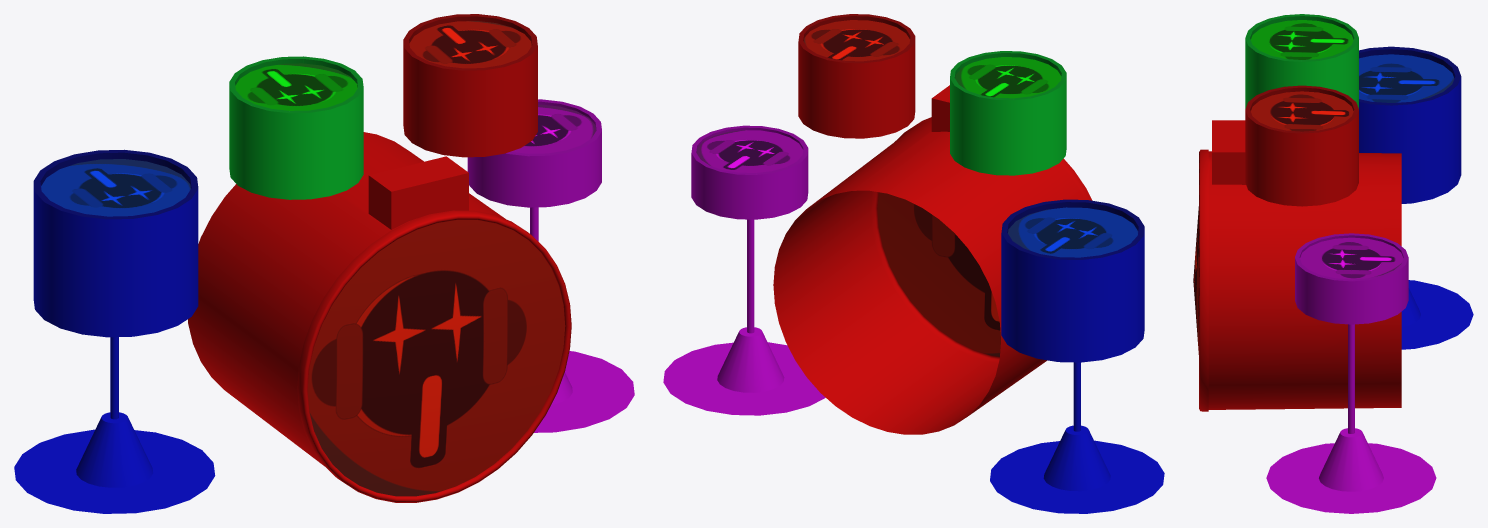
File: DrumUVtweak.fbx
The picture shows the model from 3 angles, left to right: view 1: azimuth 30°, elevation 25°; view 2: azimuth 150°, elevation 25°; view 3: azimuth 270°, elevation 25°; orthographic projection. The views are drawn at different scales.
Visible parts, largest first — view 1: polySurface3, pCylinder6, pCylinder4, pCylinder5, polySurface4, pCylinder7, polySurface6; view 2: polySurface3, pCylinder6, pCylinder5, pCylinder4, polySurface4, polySurface6, pCylinder7; view 3: polySurface3, pCylinder6, pCylinder5, polySurface6, pCylinder7, pCylinder4, polySurface4.
Boxes of the visible parts, bbox=[...] form: polySurface3: bbox=[188, 132, 571, 502]; pCylinder6: bbox=[33, 149, 198, 337]; pCylinder4: bbox=[229, 56, 363, 199]; pCylinder5: bbox=[403, 14, 537, 157]; polySurface4: bbox=[14, 337, 215, 513]; pCylinder7: bbox=[467, 99, 601, 207]; polySurface6: bbox=[530, 207, 634, 432]; polySurface3: bbox=[773, 85, 1092, 434]; pCylinder6: bbox=[1001, 199, 1144, 362]; pCylinder5: bbox=[798, 14, 915, 138]; pCylinder4: bbox=[950, 51, 1066, 175]; polySurface4: bbox=[990, 362, 1164, 513]; polySurface6: bbox=[663, 219, 825, 415]; pCylinder7: bbox=[691, 125, 808, 219]; polySurface3: bbox=[1193, 120, 1401, 411]; pCylinder6: bbox=[1359, 46, 1461, 203]; pCylinder5: bbox=[1245, 85, 1358, 206]; polySurface6: bbox=[1266, 324, 1436, 513]; pCylinder7: bbox=[1295, 233, 1408, 324]; pCylinder4: bbox=[1245, 14, 1358, 108]; polySurface4: bbox=[1401, 280, 1473, 349].
Size of the model in its own units: 26.97 by 17.66 by 13.58.
1 material, 1 textured.
